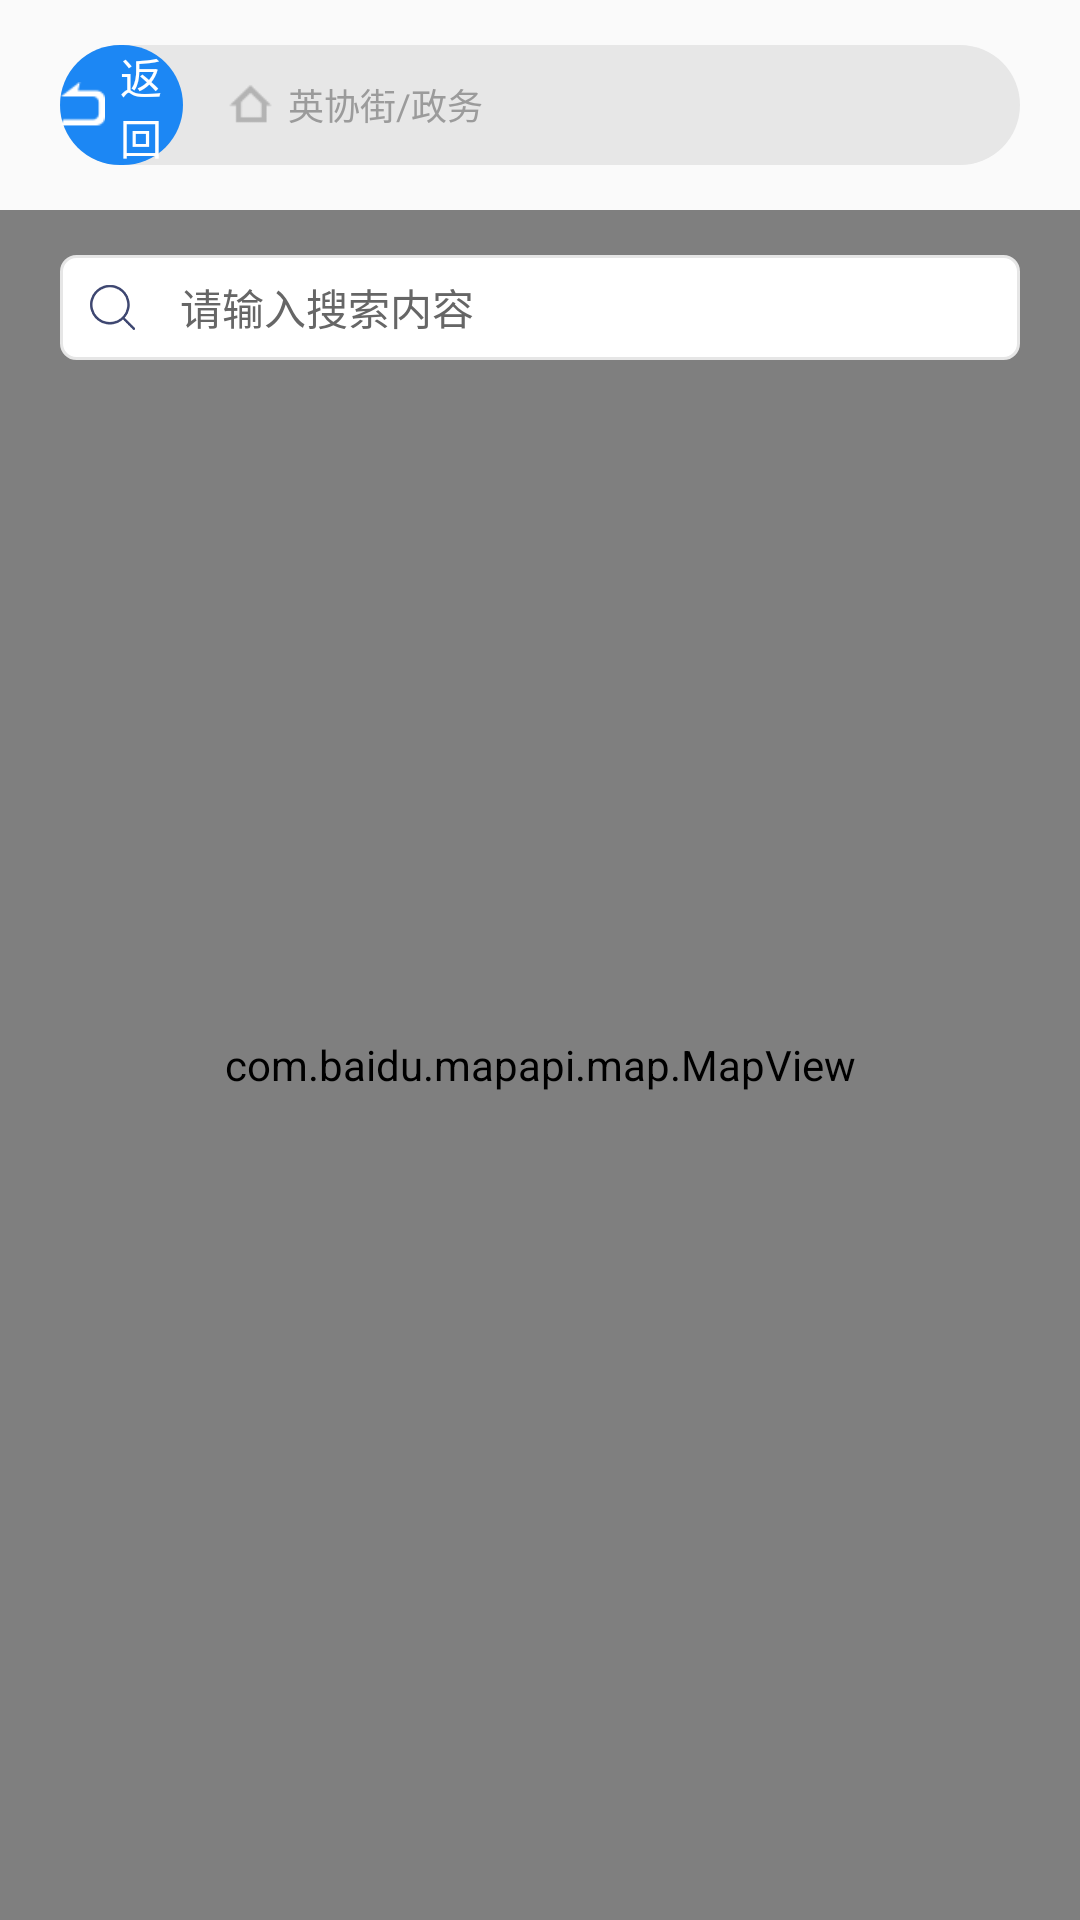

Named icons in this screenshot (1080 x 1920) and their centers, [x,y]:
crumb home: [250,104]
search: [112,307]
